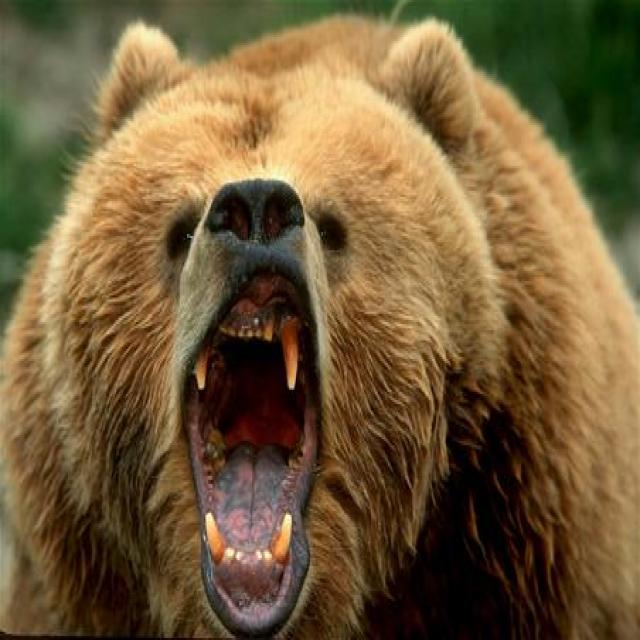Bear: (0, 14, 640, 640)
